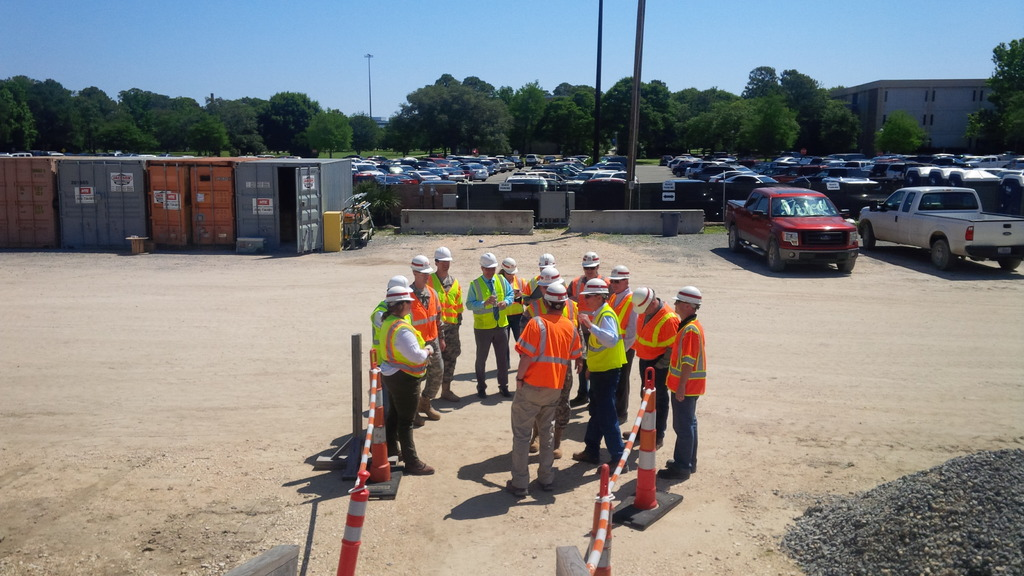Car: (670, 150, 1023, 213), (343, 152, 636, 189)
